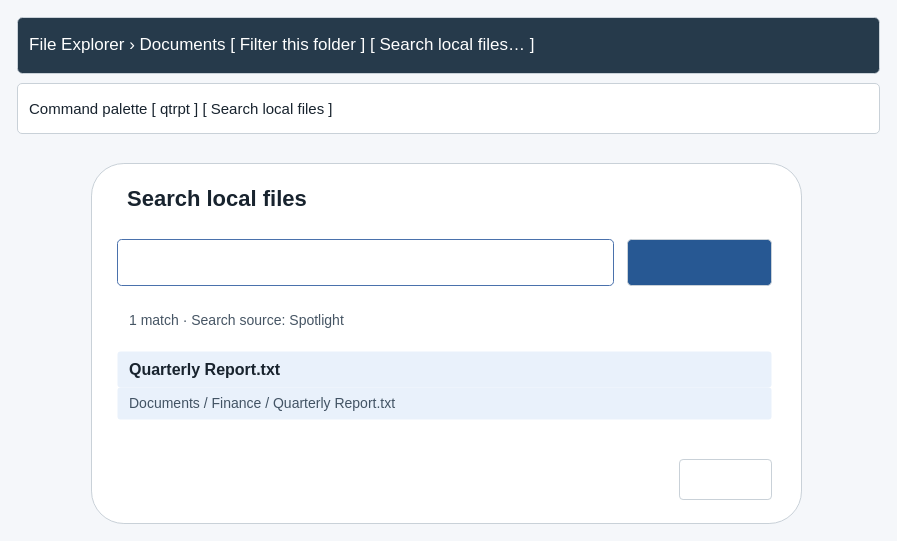
The diagram is 897 pixels wide and 541 high, and some of its shapes have lost their labels. The shapes that lost their labels are listed below. From the top down, each one's centre as x and y in pixels, then its label:
the point at 365,262: qtrpt
the point at 699,262: Search
the point at 725,479: Close
